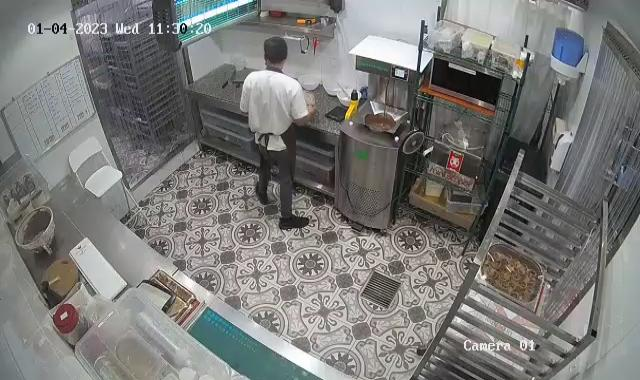no_hairnet: (261, 33, 291, 66)
